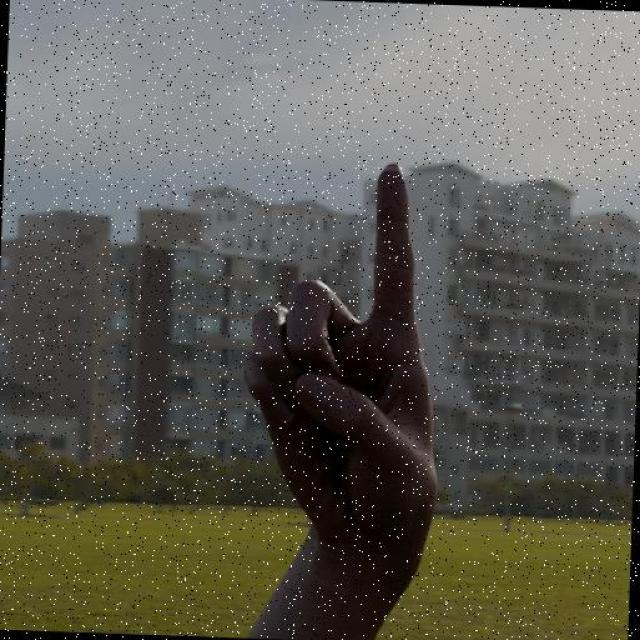D: (231, 155, 460, 574)
